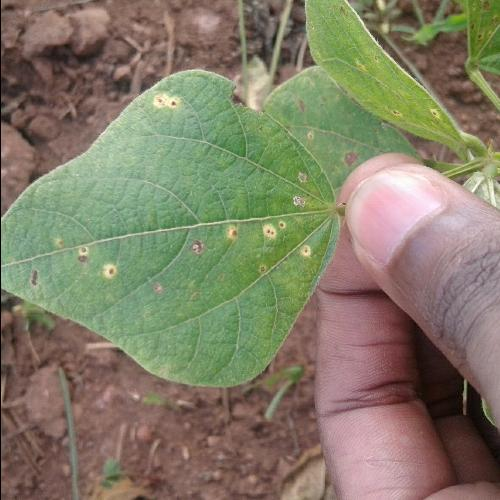hawar: (23, 146, 332, 296), (125, 65, 254, 112)
